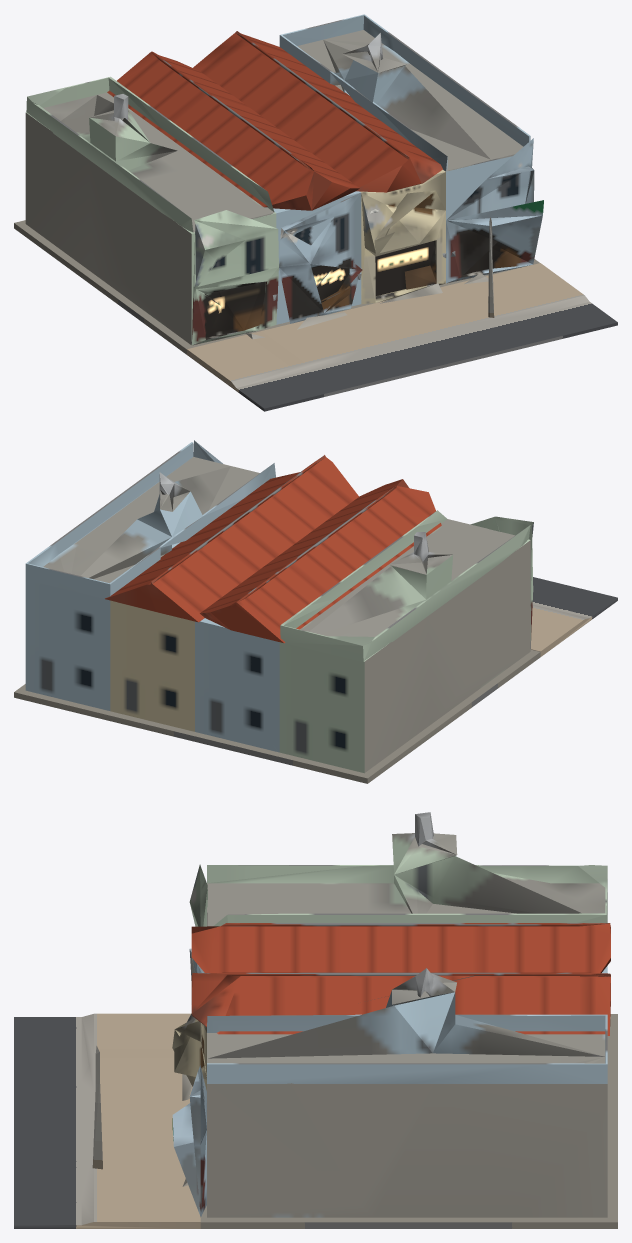
The model's file is quang_trung_12_18.far.glb.
The picture shows the model from 3 angles, top to bottom: view 1: azimuth 30°, elevation 25°; view 2: azimuth 150°, elevation 25°; view 3: azimuth 270°, elevation 25°; orthographic projection. The views are drawn at different scales.
Parts seen in each view (by area): view 1: quang_trung_12_18; view 2: quang_trung_12_18; view 3: quang_trung_12_18.
Boxes of the visible parts, box(x1,y1,x2,y2) form: quang_trung_12_18: box(14, 14, 617, 411); quang_trung_12_18: box(14, 440, 617, 783); quang_trung_12_18: box(14, 812, 617, 1228).
Size of the model in its own units: 24.2 by 12.03 by 29.68.
13 materials, 13 textured.
